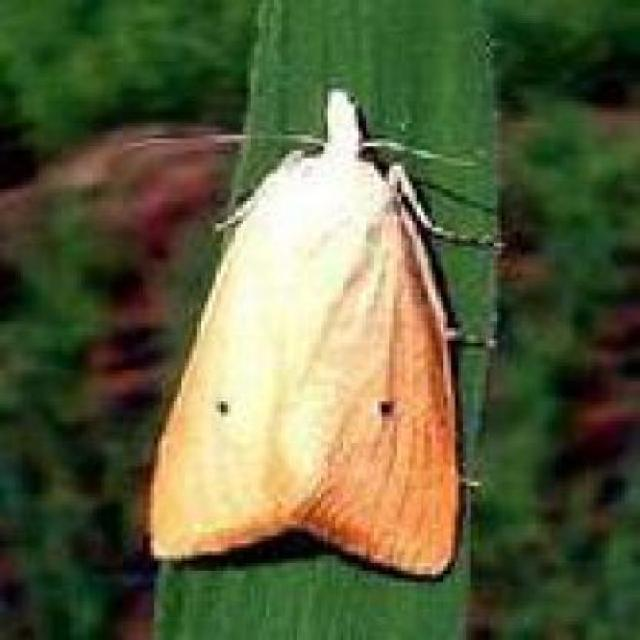stem-borer: (144, 81, 500, 585)
